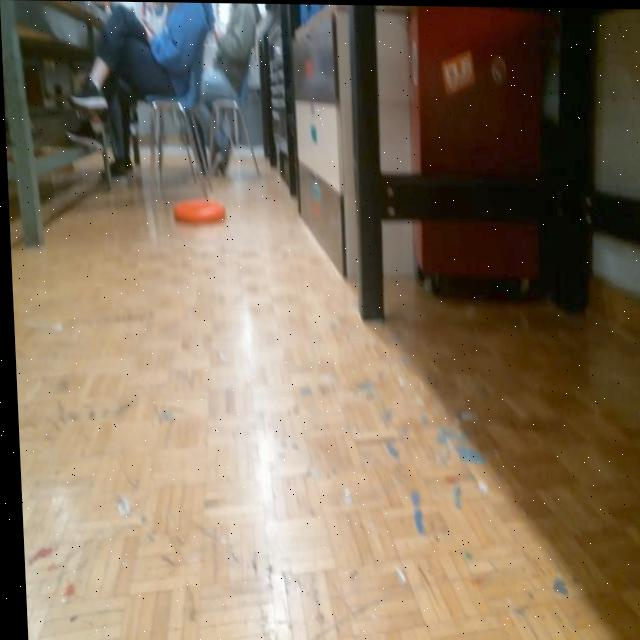note: (171, 195, 224, 229)
